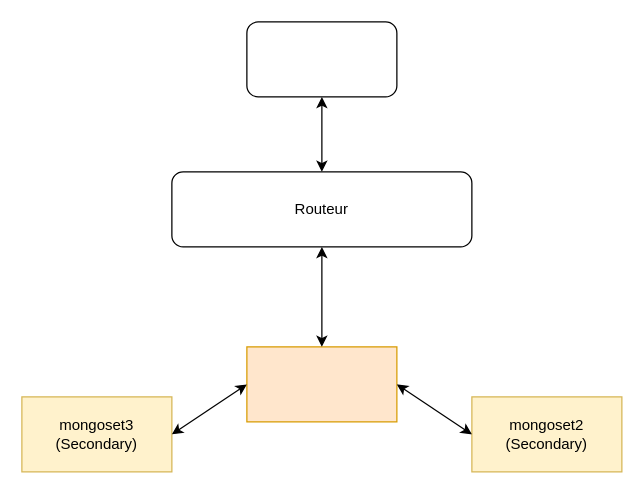
This 644x494 diagram has some shape labels left out. Each missing label, with the box of its shape:
Application: (246, 21, 397, 97)
mongoset1 (Primary): (246, 346, 397, 422)
